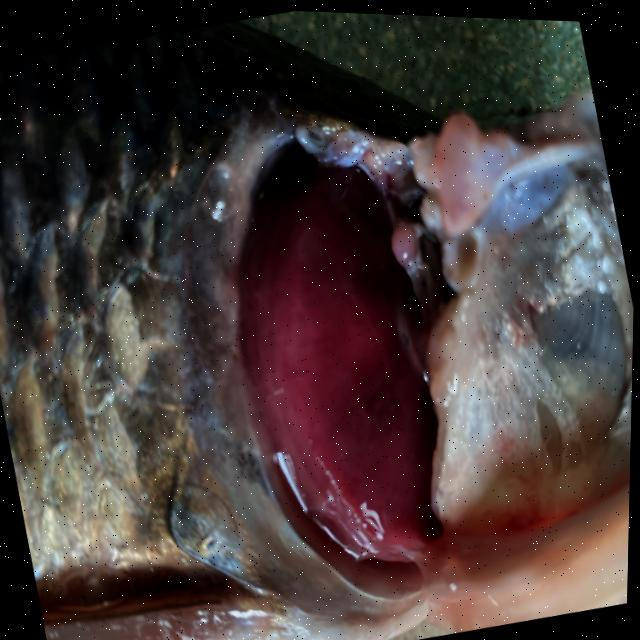Fresh: (171, 73, 512, 639)
